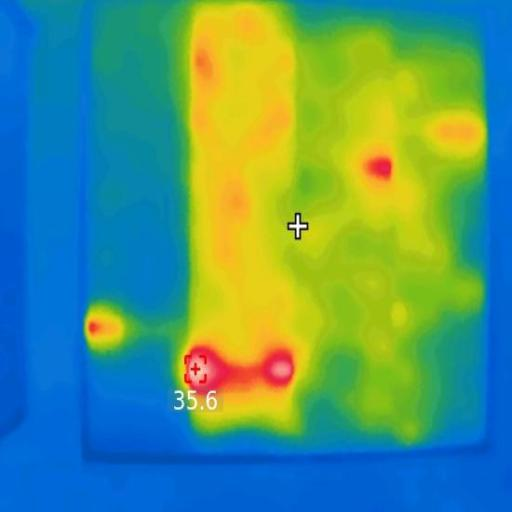hotspot: (184, 340, 238, 396), (257, 350, 297, 388), (364, 155, 396, 182), (86, 320, 102, 337)
